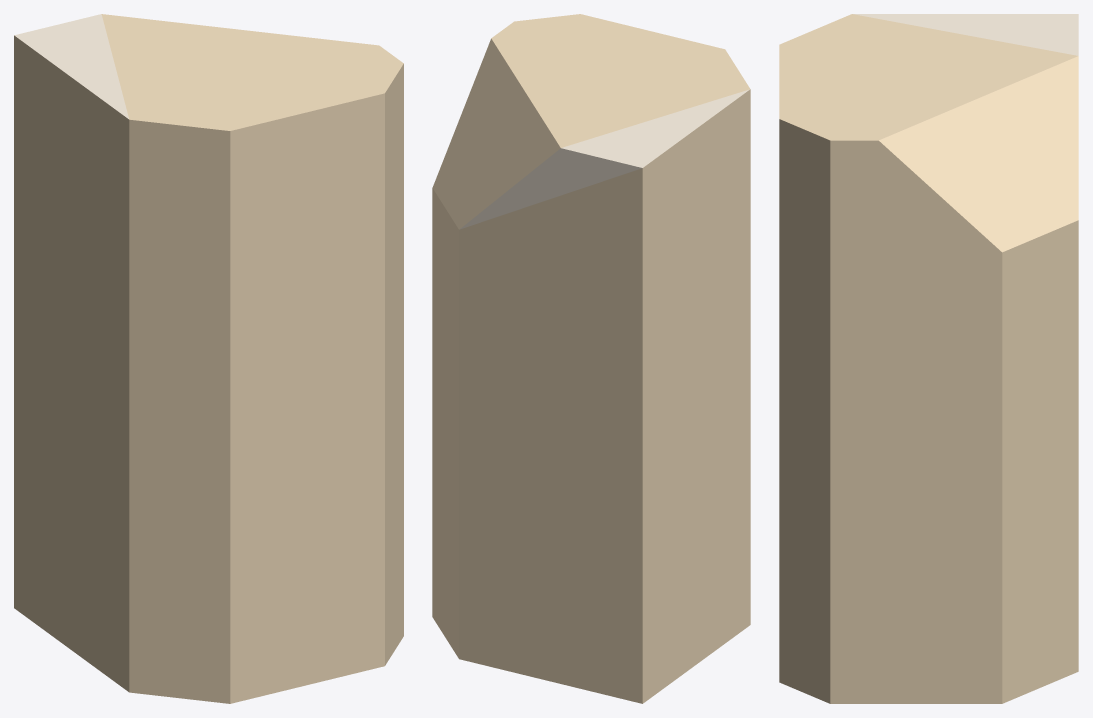
File: desert_rock_9.fbx
The picture shows the model from 3 angles, left to right: view 1: azimuth 30°, elevation 25°; view 2: azimuth 150°, elevation 25°; view 3: azimuth 270°, elevation 25°; orthographic projection. The views are drawn at different scales.
Visible parts, largest first — view 1: desert_rock_9; view 2: desert_rock_9; view 3: desert_rock_9.
Boxes of the visible parts, x1,y1,x2,y2 form: desert_rock_9: (14, 14, 403, 703); desert_rock_9: (432, 14, 750, 703); desert_rock_9: (779, 14, 1078, 703).
Bounding box in the file's own units: 62.45 × 130 × 62.45.
